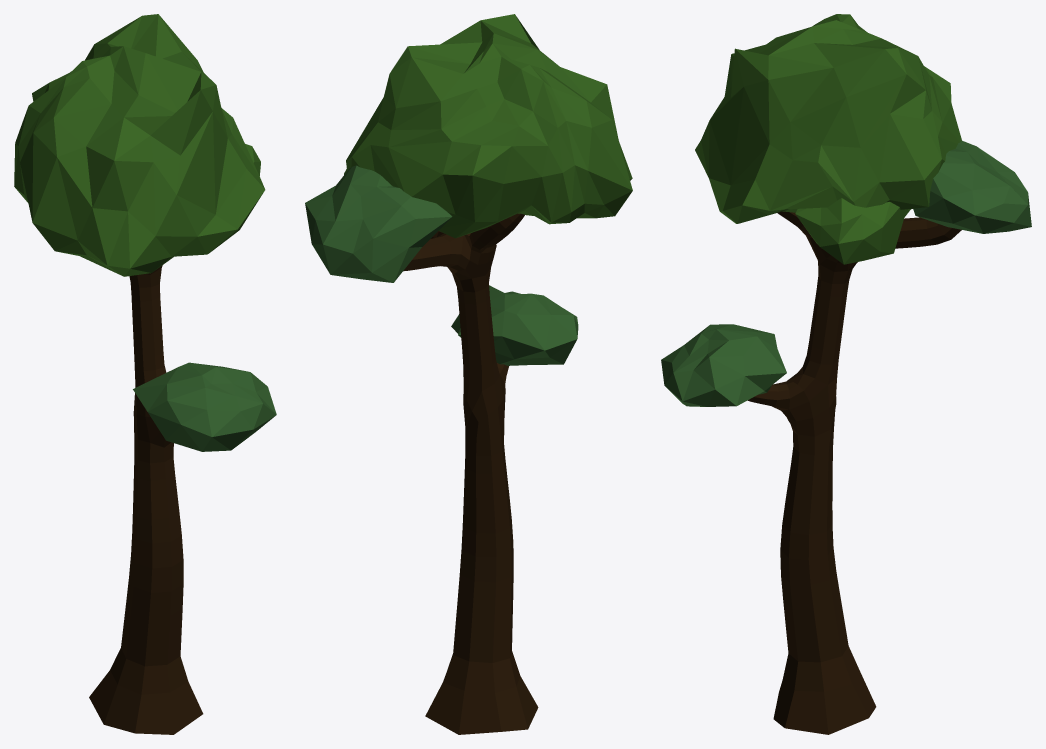
File: jungle_tree3.fbx
3 views of the same model, side by side, from view 1: azimuth 30°, elevation 25°; view 2: azimuth 150°, elevation 25°; view 3: azimuth 270°, elevation 25° (orthographic). The views are drawn at different scales.
Visible parts, largest first — view 1: Plane.001; view 2: Plane.001; view 3: Plane.001.
Part boxes in pixels (<box>): Plane.001: <box>14,14,276,734</box>; Plane.001: <box>305,14,632,734</box>; Plane.001: <box>661,14,1031,734</box>.
Size of the model in its own units: 468 by 1189 by 579.
